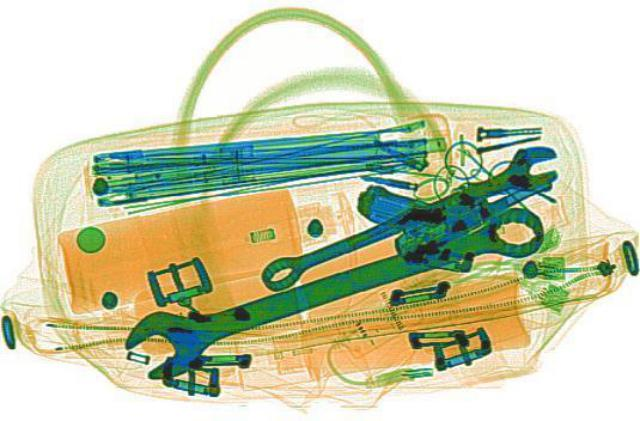Gun: (341, 126, 563, 255)
Wrench: (102, 196, 568, 381), (240, 138, 578, 295)
